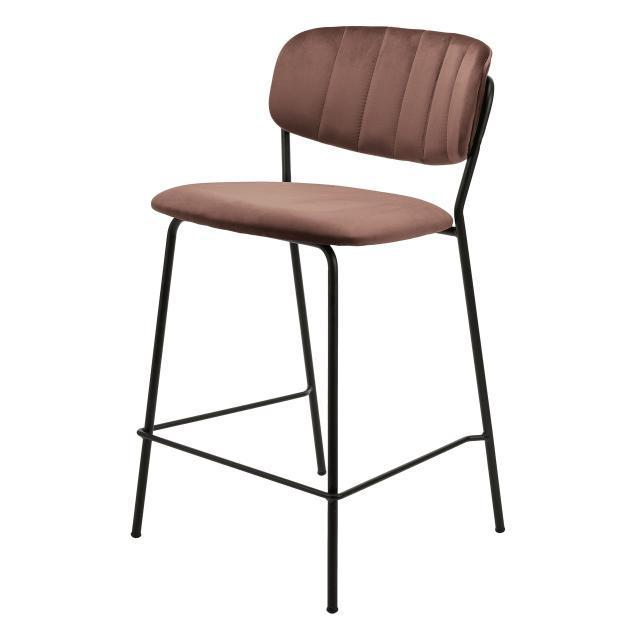chair: (125, 19, 514, 616)
